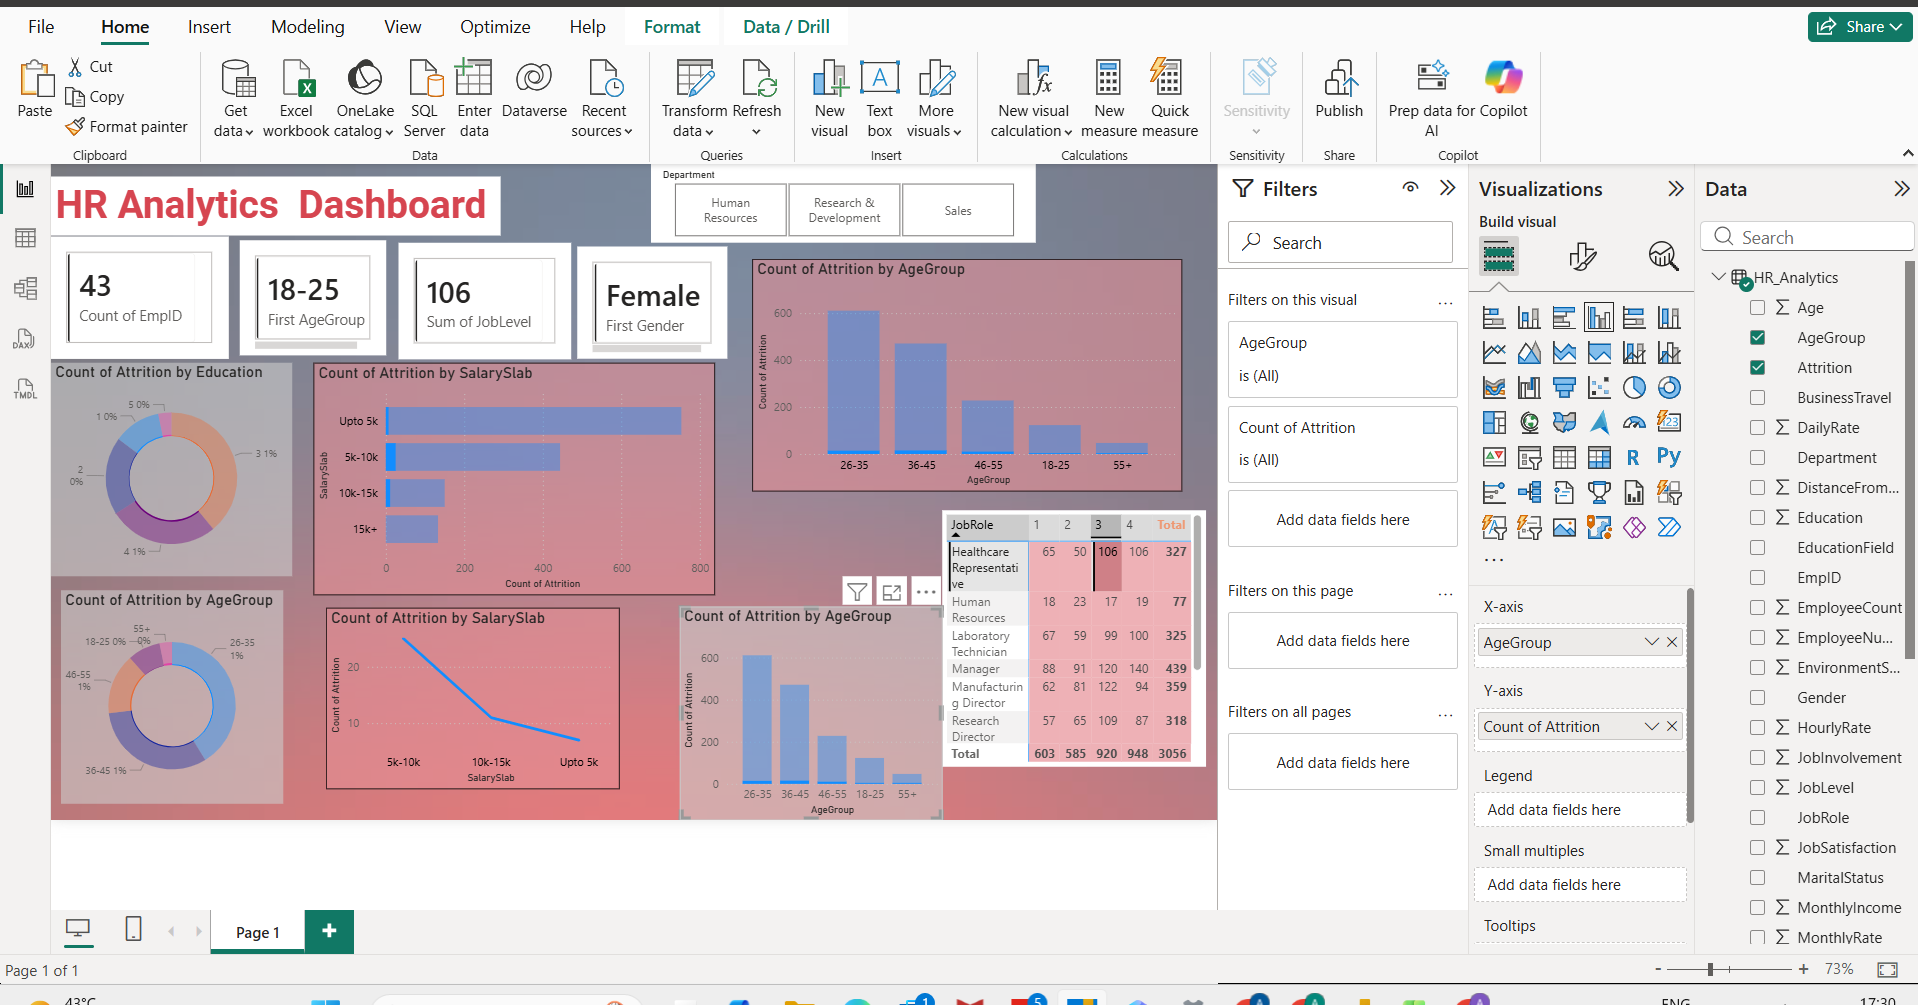

What the dashboard file says about the page in this screenshot:
{"tool":"powerbi","page":{"name":"Page 1","canvas":[1280,720],"ordinal":0},"visuals":[{"type":"cardVisual","fields":{"Data":["CountNonNull(HR_Analytics.EmpID)"]},"box":[0,79.6,194.9,134.5],"z":0},{"type":"cardVisual","fields":{"Data":["Sum(HR_Analytics.JobLevel)"]},"box":[381.5,86.4,189.4,127.6],"z":1000},{"type":"cardVisual","fields":{"Data":["Min(HR_Analytics.AgeGroup)"]},"box":[207.2,83.7,160.5,126.2],"z":2000},{"type":"cardVisual","fields":{"Data":["Min(HR_Analytics.Gender)"]},"box":[577.7,90.6,164.7,123.5],"z":3000},{"type":"donutChart","fields":{"Category":["HR_Analytics.Education"],"Y":["CountNonNull(HR_Analytics.Attrition)"]},"box":[0,218.2,264.8,234.6],"z":4000},{"type":"columnChart","fields":{"Category":["HR_Analytics.AgeGroup"],"Y":["CountNonNull(HR_Analytics.Attrition)"]},"box":[769.8,104.3,472,255.2],"z":5000},{"type":"pivotTable","fields":{"Rows":["HR_Analytics.JobRole"],"Columns":["HR_Analytics.JobSatisfaction"],"Values":["Sum(HR_Analytics.JobLevel)"]},"box":[978.4,380.1,289.5,281.3],"z":6000},{"type":"barChart","fields":{"Category":["HR_Analytics.SalarySlab"],"Y":["CountNonNull(HR_Analytics.Attrition)"]},"box":[288.2,218.2,440.5,255.2],"z":7000},{"type":"slicer","fields":{"Values":["HR_Analytics.Department"]},"box":[658.7,0,422.6,86.4],"z":8000},{"type":"textbox","box":[0,13.7,494,64.5],"z":9000},{"type":"pieChart","fields":{"Category":["HR_Analytics.AgeGroup"],"Y":["CountNonNull(HR_Analytics.Attrition)"]},"box":[11,467.9,244.3,234.6],"z":9001},{"type":"lineChart","fields":{"Category":["HR_Analytics.SalarySlab"],"Y":["CountNonNull(HR_Analytics.Attrition)"]},"box":[301.9,487.1,322.5,199],"z":9002},{"type":"clusteredColumnChart","fields":{"Category":["HR_Analytics.AgeGroup"],"Y":["CountNonNull(HR_Analytics.Attrition)"]},"box":[690.2,485.8,288.2,234.6],"z":9003}]}

Visuals, with their boxes on the page's 1280x720 design canvas (x1, y1, x2, y2). These are canvas units, not pixel positions in the 1918x1005 screenshot, which may show the page scaled, cropped or inside an application window:
cardVisual - CountNonNull(HR_Analytics.EmpID): left=0, top=80, right=195, bottom=214
cardVisual - Sum(HR_Analytics.JobLevel): left=382, top=86, right=571, bottom=214
cardVisual - Min(HR_Analytics.AgeGroup): left=207, top=84, right=368, bottom=210
cardVisual - Min(HR_Analytics.Gender): left=578, top=91, right=742, bottom=214
donutChart - HR_Analytics.Education x CountNonNull(HR_Analytics.Attrition): left=0, top=218, right=265, bottom=453
columnChart - HR_Analytics.AgeGroup x CountNonNull(HR_Analytics.Attrition): left=770, top=104, right=1242, bottom=360
pivotTable - HR_Analytics.JobRole x HR_Analytics.JobSatisfaction: left=978, top=380, right=1268, bottom=661
barChart - HR_Analytics.SalarySlab x CountNonNull(HR_Analytics.Attrition): left=288, top=218, right=729, bottom=473
slicer - HR_Analytics.Department: left=659, top=0, right=1081, bottom=86
textbox: left=0, top=14, right=494, bottom=78
pieChart - HR_Analytics.AgeGroup x CountNonNull(HR_Analytics.Attrition): left=11, top=468, right=255, bottom=702
lineChart - HR_Analytics.SalarySlab x CountNonNull(HR_Analytics.Attrition): left=302, top=487, right=624, bottom=686
clusteredColumnChart - HR_Analytics.AgeGroup x CountNonNull(HR_Analytics.Attrition): left=690, top=486, right=978, bottom=720
